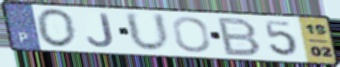5: (263, 20, 301, 57)
B: (216, 16, 264, 58)
J: (85, 12, 116, 49)
O: (34, 7, 79, 49), (170, 15, 213, 54)
U: (122, 10, 174, 54)
